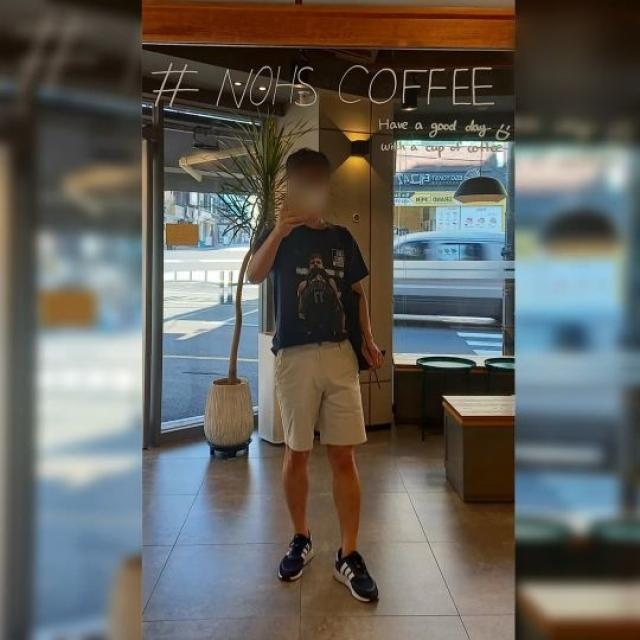shortpants: (272, 342, 366, 450)
shortsleeve: (254, 219, 370, 350)
